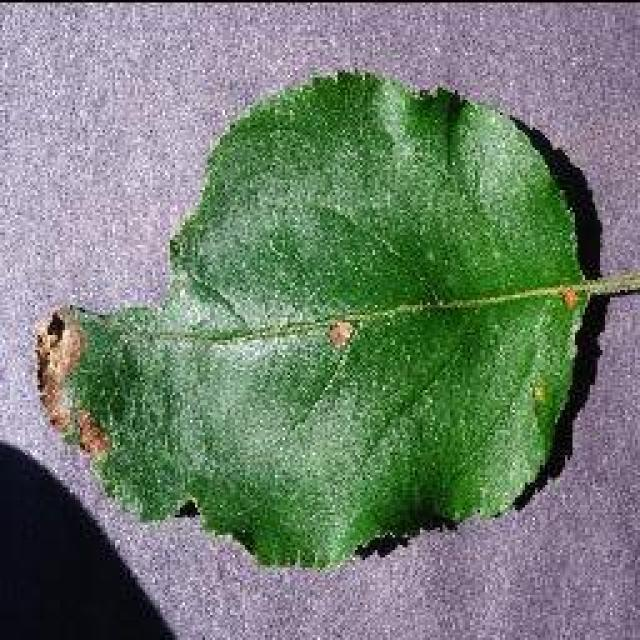apple scab disease: (30, 65, 610, 570)
